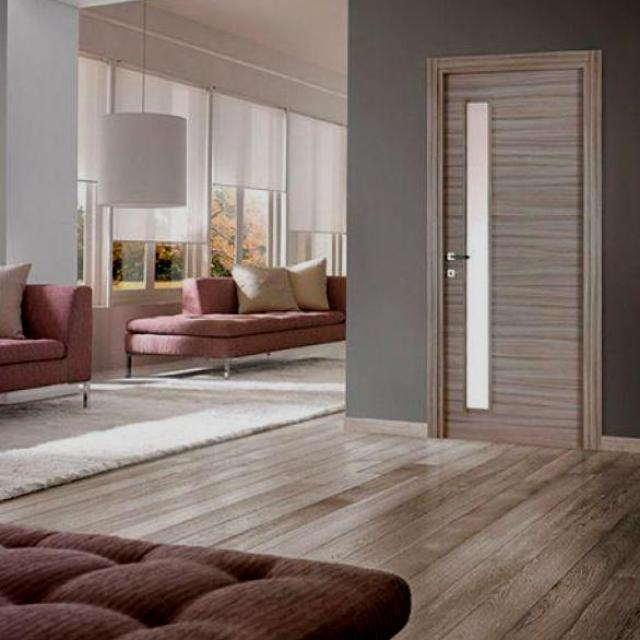door: (433, 50, 592, 450)
